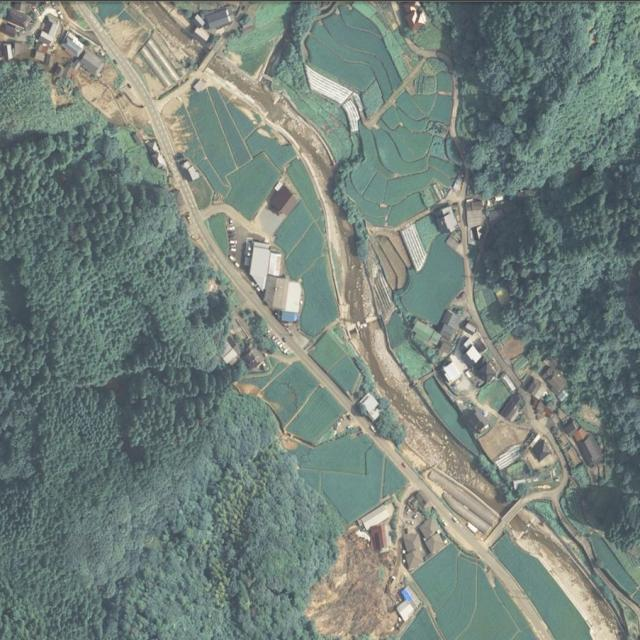landslide: (306, 533, 399, 640)
